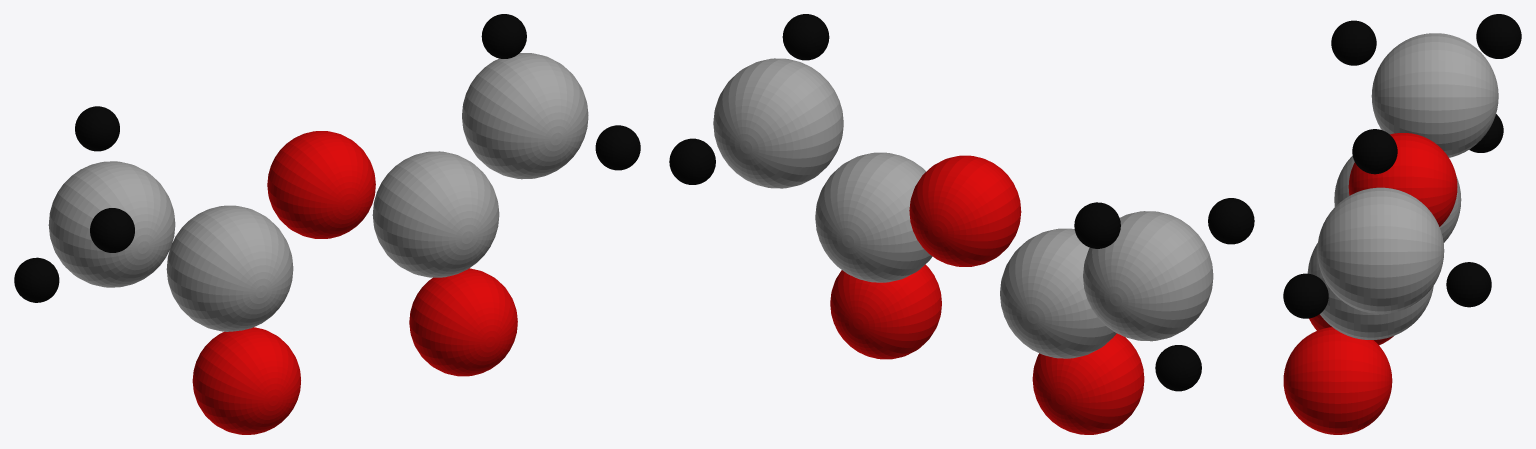
File: Acetic Anhydride.glb
The picture shows the model from 3 angles, left to right: view 1: azimuth 30°, elevation 25°; view 2: azimuth 150°, elevation 25°; view 3: azimuth 270°, elevation 25°; orthographic projection. The views are drawn at different scales.
Visible parts, largest first — view 1: world; view 2: world; view 3: world.
Boxes of the visible parts, bbox=[...] form: world: bbox=[14, 14, 640, 434]; world: bbox=[669, 14, 1254, 434]; world: bbox=[1283, 14, 1521, 434].
Bounding box in the file's own units: 6.8 × 4.18 × 2.63.
